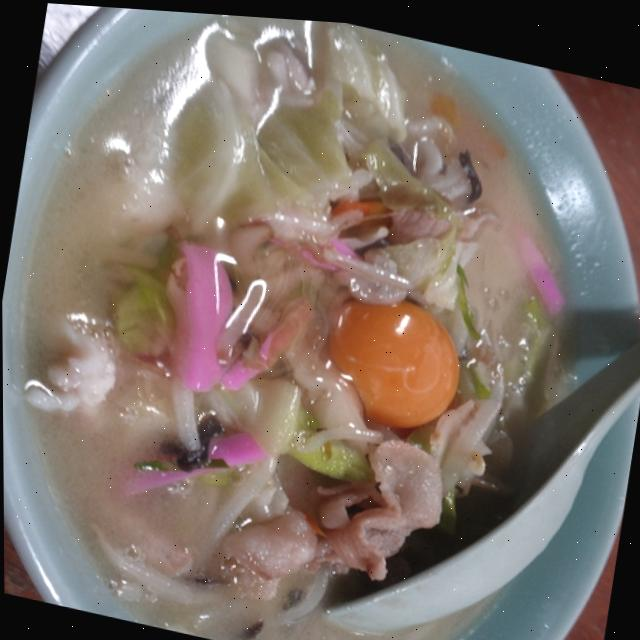猪肉菜式: (0, 0, 617, 638)
